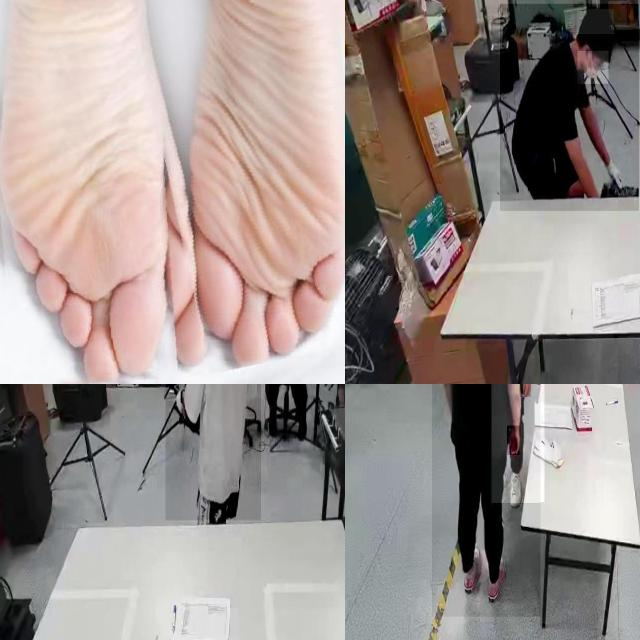Barefoots: (115, 0, 345, 368), (0, 0, 175, 384)
face_mask: (578, 51, 608, 84)
hand_glove: (604, 153, 628, 197)
hand_noglove: (507, 426, 520, 456), (518, 384, 531, 398)
head_nohelmet: (577, 9, 615, 35)
person: (500, 4, 640, 212), (432, 384, 541, 617), (165, 384, 261, 521), (491, 384, 544, 503), (268, 384, 319, 439)
shoes: (460, 540, 483, 596), (484, 551, 508, 604), (506, 470, 524, 512)
